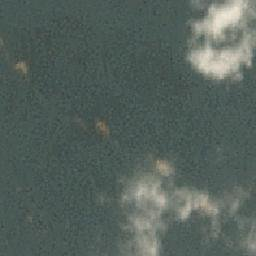cloud: (109, 175, 256, 256), (182, 1, 256, 83)
debris: (14, 57, 30, 79), (95, 120, 110, 139), (153, 160, 170, 166)
